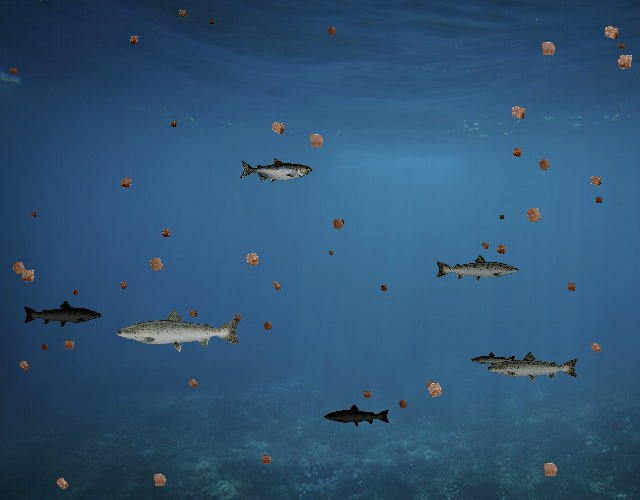Fish: (114, 307, 243, 353), (486, 350, 580, 384), (434, 253, 520, 284), (23, 299, 104, 329), (240, 157, 313, 184), (323, 404, 391, 428), (471, 351, 518, 368)
Pellet: (610, 46, 640, 76), (238, 245, 266, 273), (264, 115, 291, 142), (50, 471, 75, 496), (27, 208, 39, 220)
